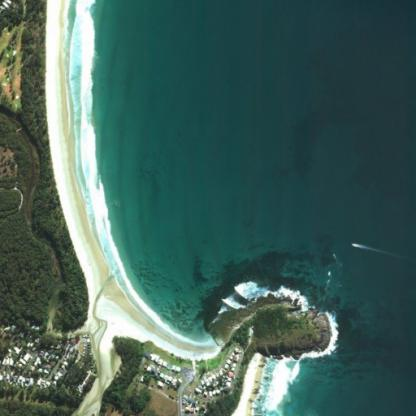ship: (334, 242, 337, 245)
